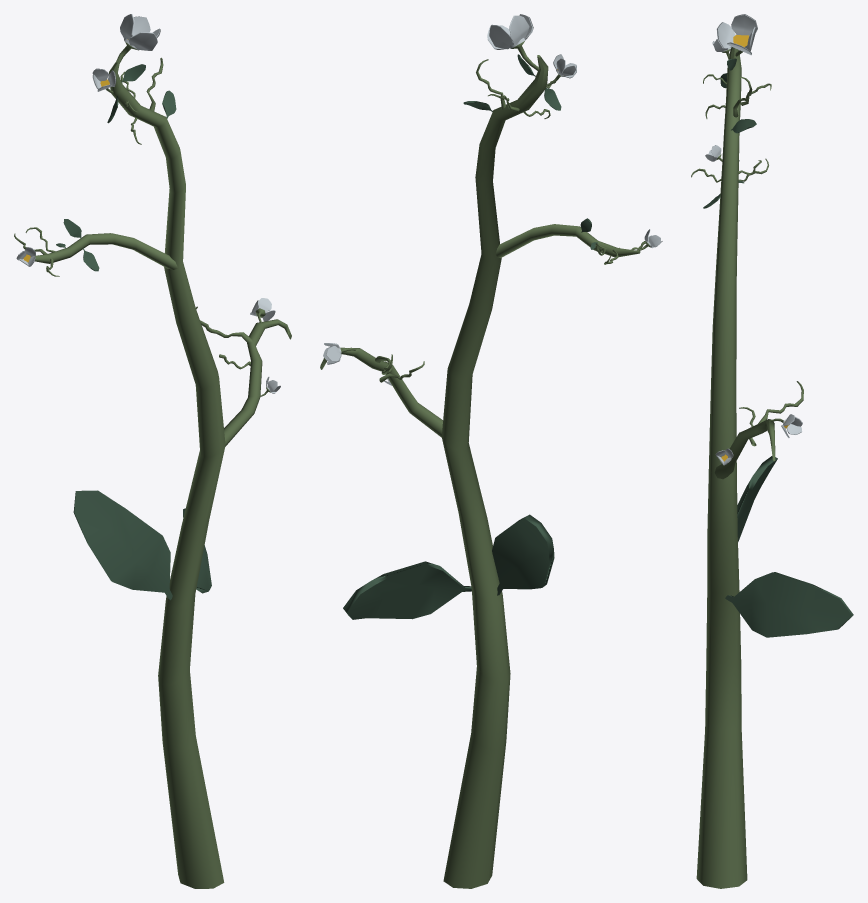
File: PL_peaStage2_01.fbx
3 renders of one model, left to right at view 1: azimuth 30°, elevation 25°; view 2: azimuth 150°, elevation 25°; view 3: azimuth 270°, elevation 25°, orthographic. The views are drawn at different scales.
Visible parts, largest first — view 1: PL_peaStage2_01; view 2: PL_peaStage2_01; view 3: PL_peaStage2_01.
Boxes of the visible parts, <box> form: PL_peaStage2_01: <box>14,14,291,888</box>; PL_peaStage2_01: <box>320,14,662,888</box>; PL_peaStage2_01: <box>691,14,853,888</box>.
Size of the model in its own units: 26.24 by 71.63 by 12.61.
Materials: 2 (2 with a texture image).
